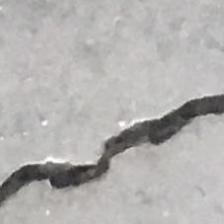Crack: (0, 92, 224, 216)
